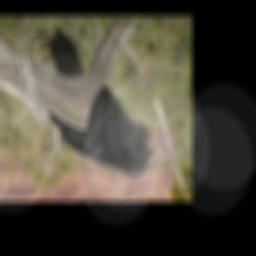Crow: (46, 28, 159, 177)
